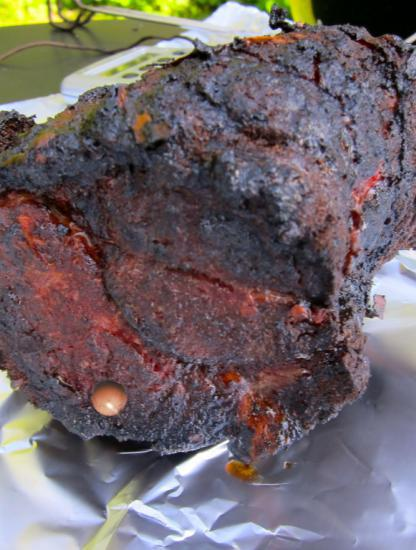Granadilla: (88, 377, 139, 428)
